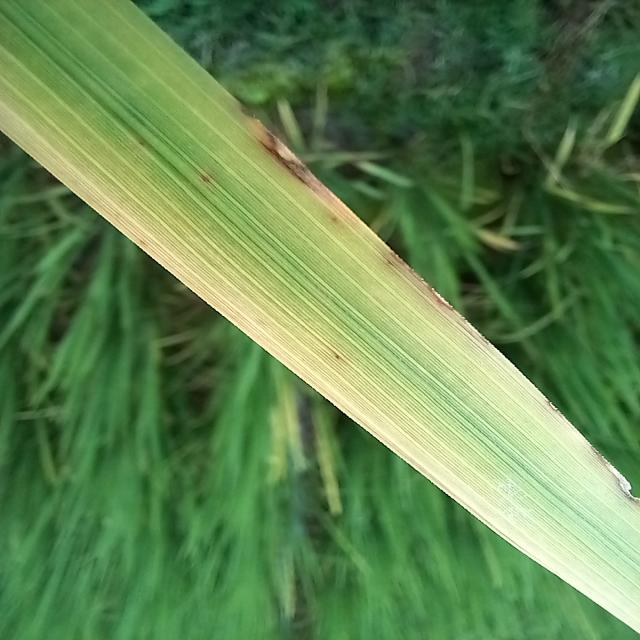Rice Tungro: (254, 117, 335, 222)
